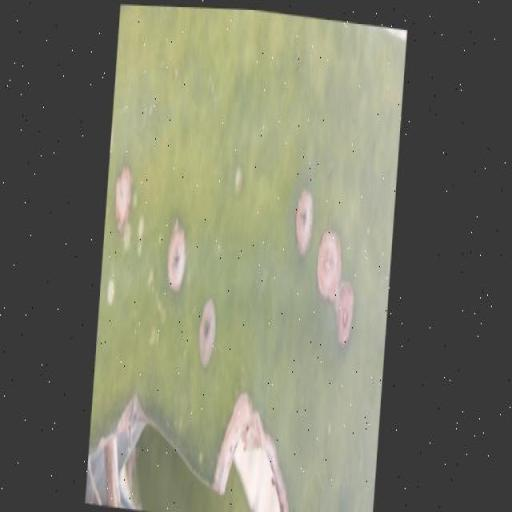stemcanker: (218, 93, 249, 180), (179, 155, 207, 243), (294, 244, 318, 328), (227, 270, 253, 315), (150, 182, 165, 224), (132, 118, 143, 154), (138, 175, 148, 208)
